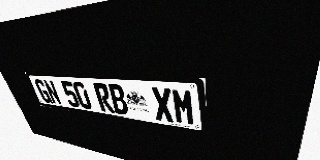0: (71, 82, 93, 110)
5: (60, 81, 81, 108)
B: (107, 84, 130, 116)
G: (33, 79, 53, 104)
M: (171, 88, 196, 126)
N: (43, 80, 62, 105)
R: (93, 83, 115, 113)
X: (150, 87, 175, 123)
